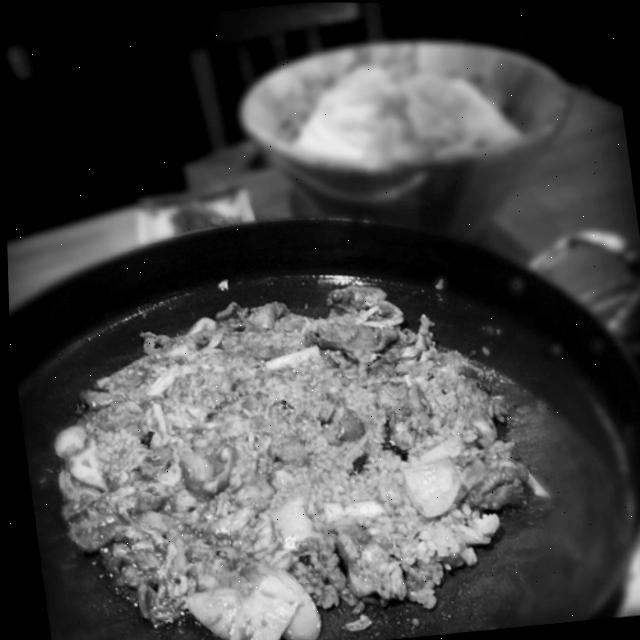鸡肉料理 含炸鸡: (29, 231, 520, 631)
